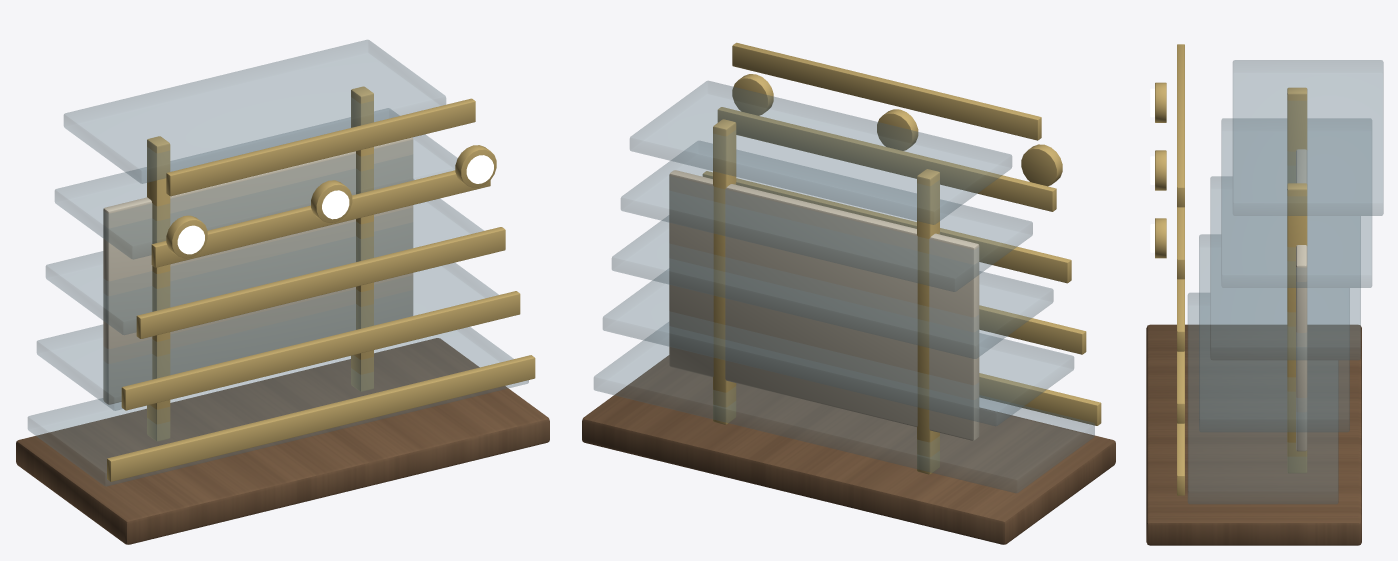
The model's file is pf_display_checkout_display_t4.glb.
3 views of the same model, side by side, from view 1: azimuth 30°, elevation 25°; view 2: azimuth 150°, elevation 25°; view 3: azimuth 270°, elevation 25° (orthographic). The views are drawn at different scales.
Visible parts, largest first — view 1: Counter_Display_Base, Checkout_Back_Panel, Riser_05, Riser_01, Riser_02, Riser_04, Riser_03, Riser_Lip_01, Riser_Lip_02, Riser_Lip_03, Riser_Lip_05, Riser_Lip_04 (+5 smaller); view 2: Checkout_Back_Panel, Counter_Display_Base, Riser_05, Riser_04, Riser_01, Riser_02, Riser_03, Riser_Lip_04, Riser_Lip_05, Riser_Support_02, Riser_Support_01, Riser_Lip_03 (+5 smaller); view 3: Counter_Display_Base, Riser_05, Riser_04, Riser_01, Riser_02, Riser_03, Riser_Support_02, Checkout_Back_Panel, Riser_Support_01, Riser_Lip_05, Riser_Lip_01, Riser_Lip_02 (+5 smaller).
Boxes of the visible parts, x1,y1,x2,y2 form: Counter_Display_Base: (16, 338, 549, 544); Checkout_Back_Panel: (103, 137, 413, 404); Riser_05: (64, 40, 445, 183); Riser_01: (28, 327, 528, 486); Riser_02: (37, 263, 498, 410); Riser_04: (55, 108, 457, 259); Riser_03: (46, 179, 483, 334); Riser_Lip_01: (107, 355, 535, 481); Riser_Lip_02: (121, 291, 520, 410); Riser_Lip_03: (136, 227, 505, 338); Riser_Lip_05: (166, 98, 475, 196); Riser_Lip_04: (151, 170, 490, 267); Checkout_Back_Panel: (669, 170, 979, 440); Counter_Display_Base: (582, 355, 1115, 544); Riser_05: (630, 81, 1011, 224); Riser_04: (621, 141, 1032, 291); Riser_01: (594, 322, 1094, 492); Riser_02: (603, 269, 1073, 425); Riser_03: (612, 215, 1053, 358); Riser_Lip_04: (717, 107, 1056, 211); Riser_Lip_05: (732, 42, 1041, 140); Riser_Support_02: (713, 119, 736, 424); Riser_Support_01: (917, 169, 939, 474); Riser_Lip_03: (702, 171, 1071, 283); Counter_Display_Base: (1146, 324, 1361, 545); Riser_05: (1233, 60, 1383, 215); Riser_04: (1221, 118, 1371, 287); Riser_01: (1188, 293, 1338, 503); Riser_02: (1199, 234, 1349, 431); Riser_03: (1210, 176, 1360, 359); Riser_Support_02: (1287, 183, 1307, 473); Checkout_Back_Panel: (1296, 149, 1307, 451); Riser_Support_01: (1287, 87, 1307, 183); Riser_Lip_05: (1177, 44, 1184, 207); Riser_Lip_01: (1177, 423, 1184, 495); Riser_Lip_02: (1177, 351, 1184, 423).
Size of the model in its own units: 1.05 by 0.82 by 0.528.
Materials: 6 (1 with a texture image).
